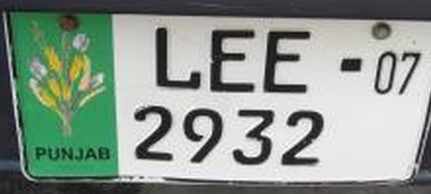0: (371, 48, 398, 96)
2: (130, 103, 177, 161), (280, 107, 326, 166)
3: (231, 105, 277, 166)
7: (399, 49, 422, 98)
9: (181, 104, 225, 165)
E: (262, 26, 314, 96), (208, 24, 257, 93)
L: (151, 23, 203, 91)
